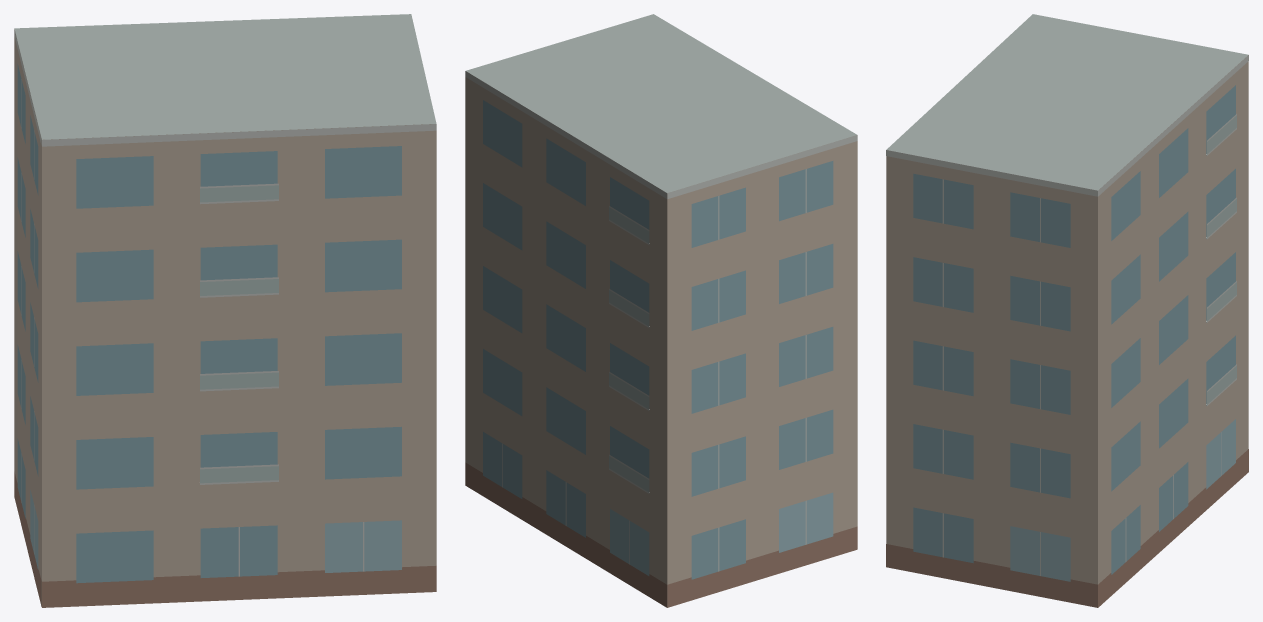
File: survey-upis-33017232.glb
3 views of the same model, side by side, from view 1: azimuth 30°, elevation 25°; view 2: azimuth 150°, elevation 25°; view 3: azimuth 270°, elevation 25° (orthographic). The views are drawn at different scales.
Visible parts, largest first — view 1: survey-upis-33017232.tmp; view 2: survey-upis-33017232.tmp; view 3: survey-upis-33017232.tmp.
Boxes of the visible parts, <box> form: survey-upis-33017232.tmp: <box>14,14,436,607</box>; survey-upis-33017232.tmp: <box>465,14,857,607</box>; survey-upis-33017232.tmp: <box>886,14,1248,607</box>.
Bounding box in the file's own units: 15.08 × 16.6 × 13.09.
